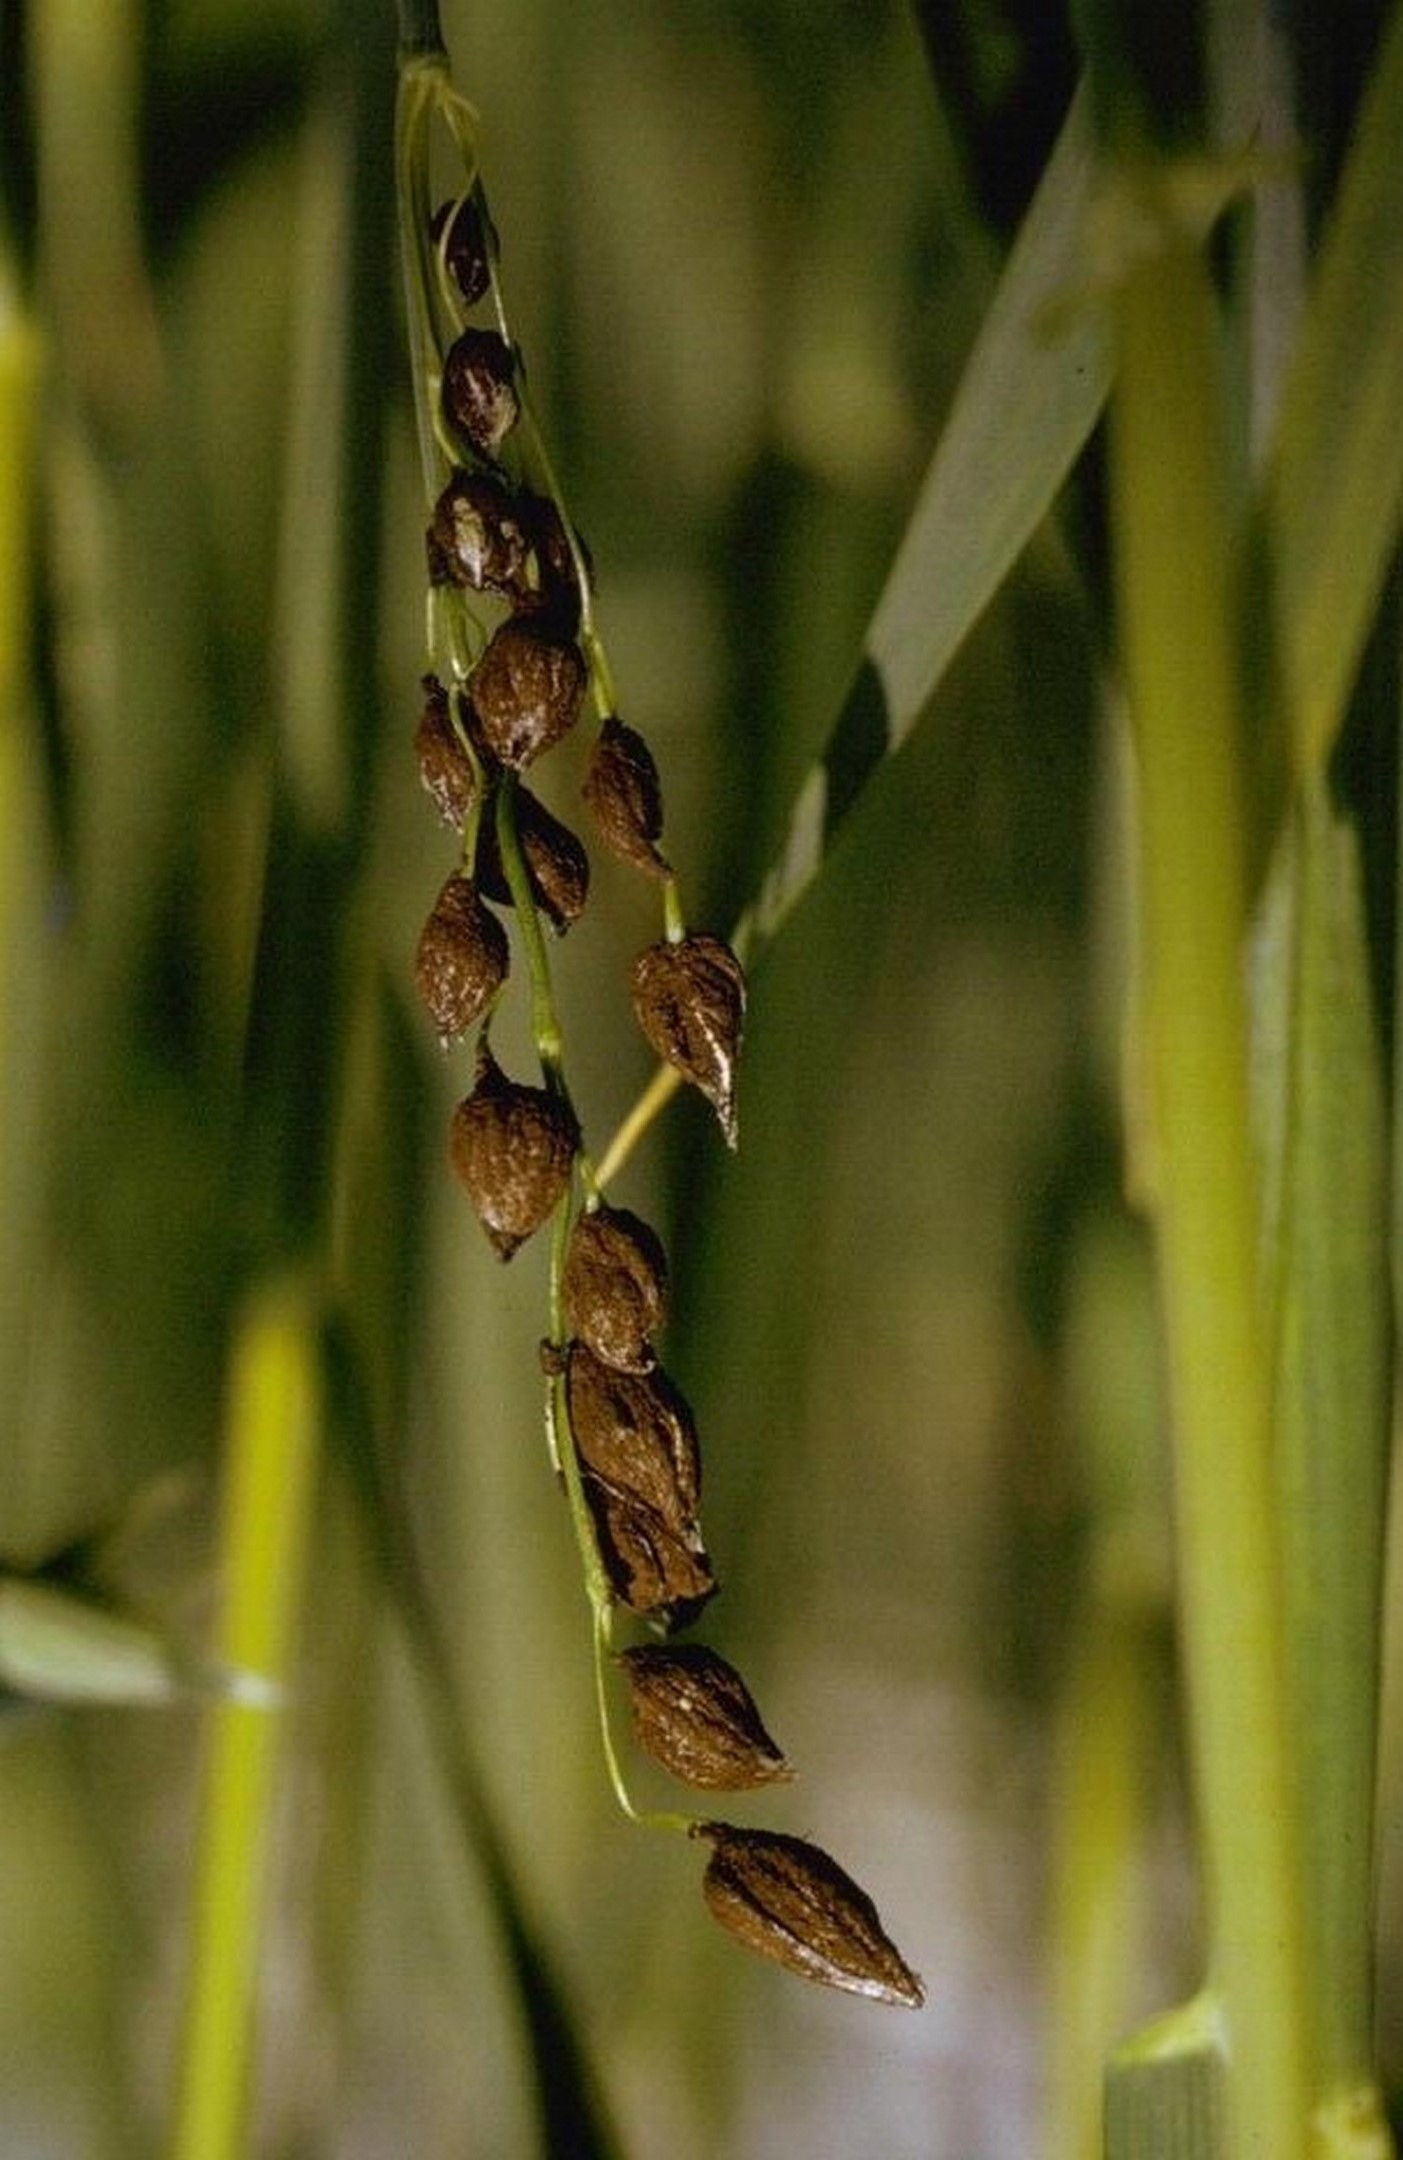Wheat Loose Smut: (351, 190, 932, 1992)
